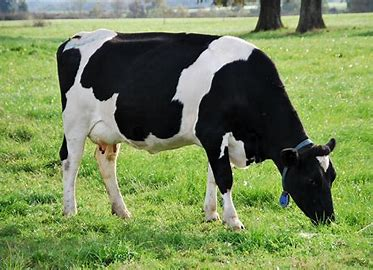waka: (54, 24, 342, 240)
